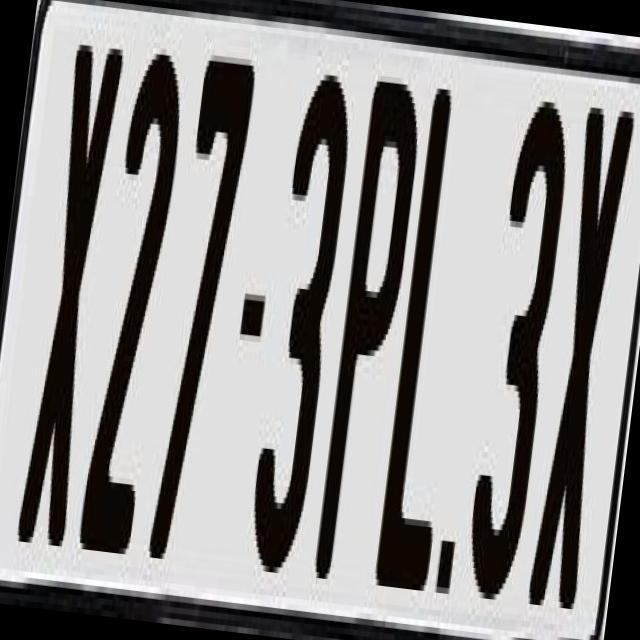2: (72, 45, 191, 572)
3: (245, 54, 365, 576), (464, 87, 582, 591)
7: (143, 54, 264, 570)
L: (371, 70, 492, 603)
P: (308, 80, 427, 619)
X: (12, 44, 126, 576), (526, 89, 640, 604)
